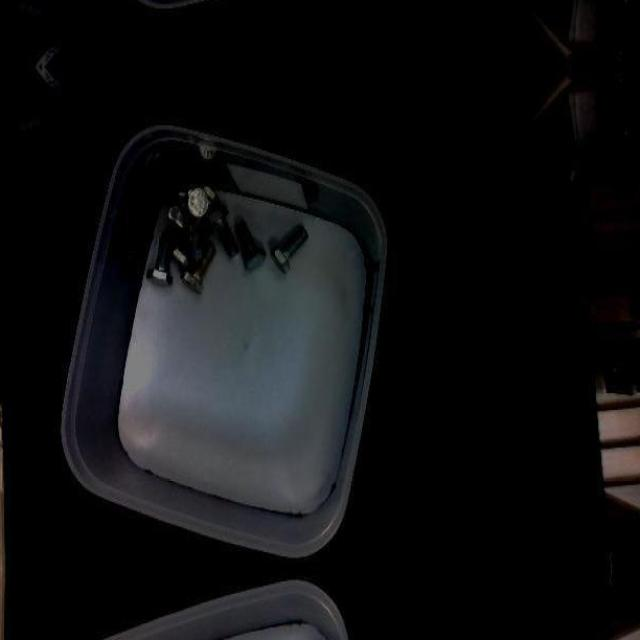screw: (270, 225, 308, 273), (206, 205, 239, 258), (235, 220, 267, 272), (166, 225, 208, 260), (178, 183, 209, 218)
